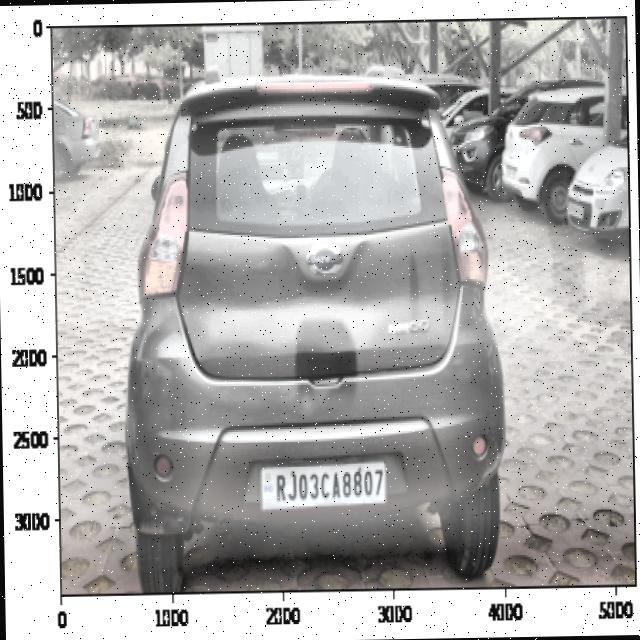license_plate: (266, 458, 388, 511)
